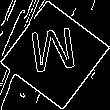M_S: (28, 27, 82, 83)
